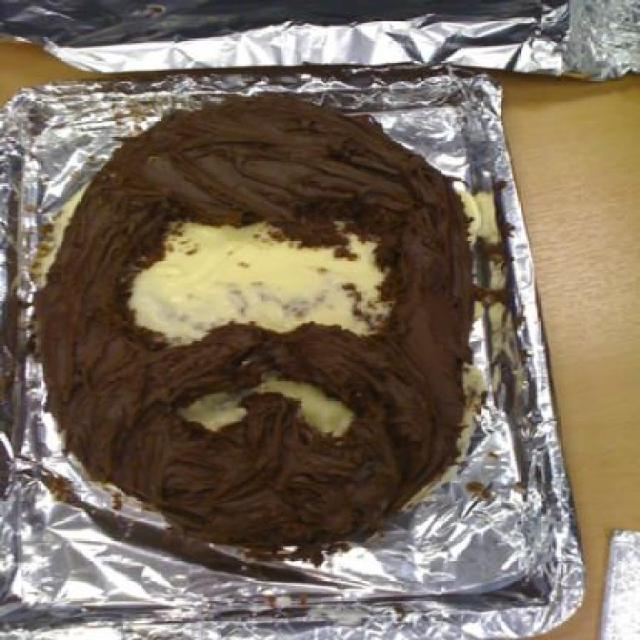Cake: (34, 86, 472, 551)
